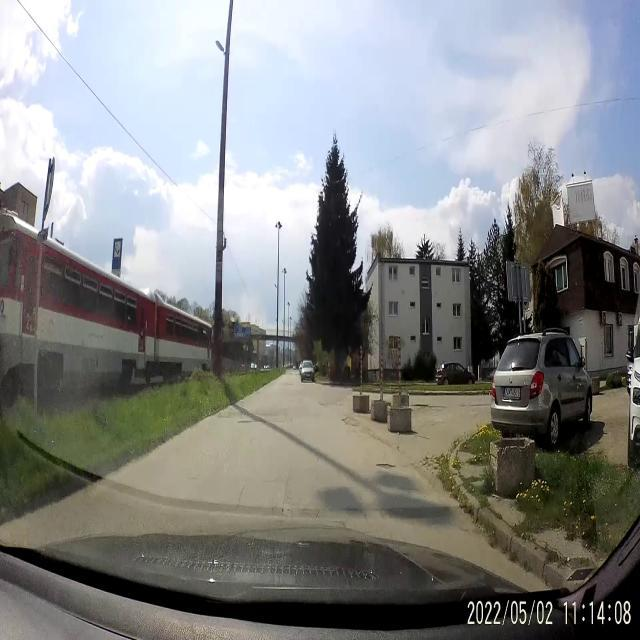Pothole: (374, 458, 398, 476), (342, 412, 360, 436)
